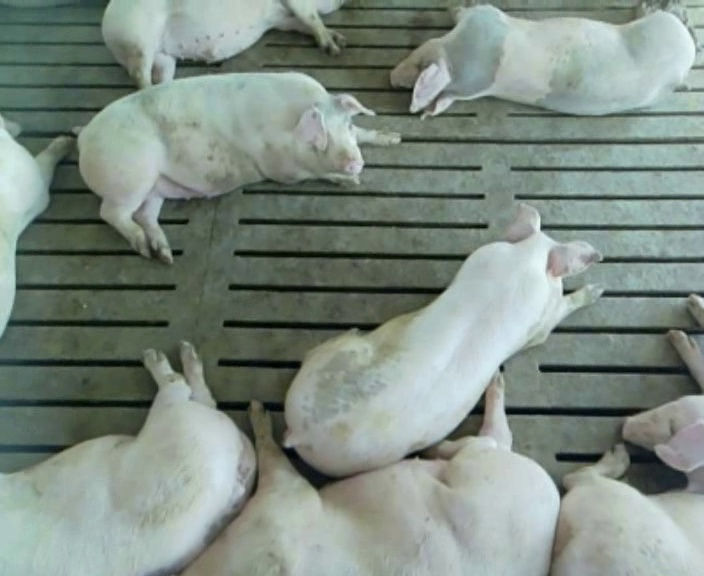pig: (285, 204, 601, 475), (184, 374, 558, 574), (78, 73, 399, 262), (0, 342, 253, 574), (391, 3, 695, 116), (102, 2, 344, 87), (551, 444, 703, 574), (0, 115, 73, 335)
